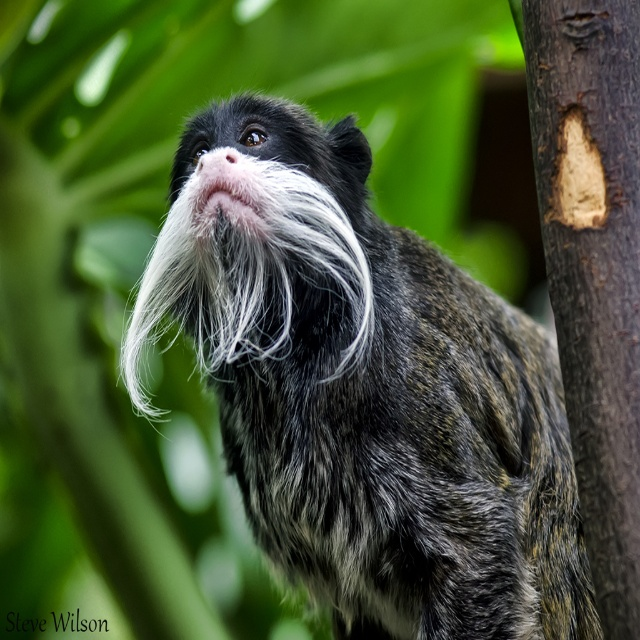Monkey: (117, 85, 603, 640)
